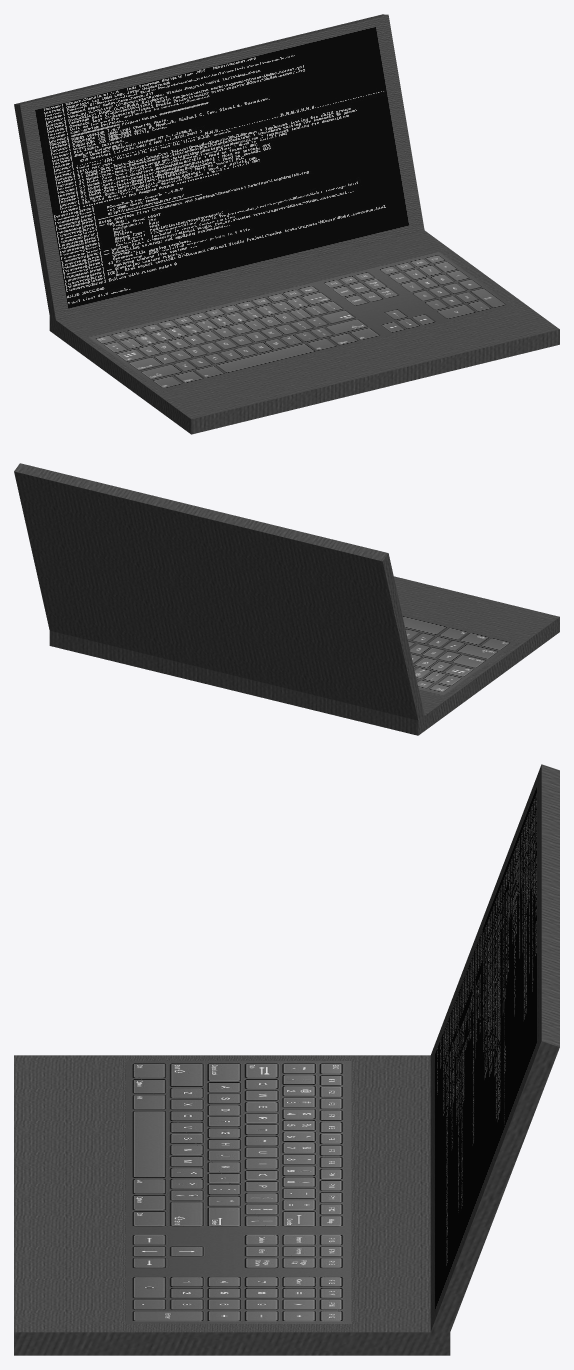
The model's file is laptop.FBX.
3 renders of one model, top to bottom at view 1: azimuth 30°, elevation 25°; view 2: azimuth 150°, elevation 25°; view 3: azimuth 270°, elevation 25°, orthographic. The views are drawn at different scales.
Visible parts, largest first — view 1: komp; view 2: komp; view 3: komp.
Boxes of the visible parts, box(x1,y1,x2,y2) form: komp: box(14, 14, 559, 434); komp: box(14, 463, 559, 735); komp: box(14, 764, 559, 1355).
Bounding box in the file's own units: 2.67 × 1.42 × 2.23.
1 material, 1 textured.
